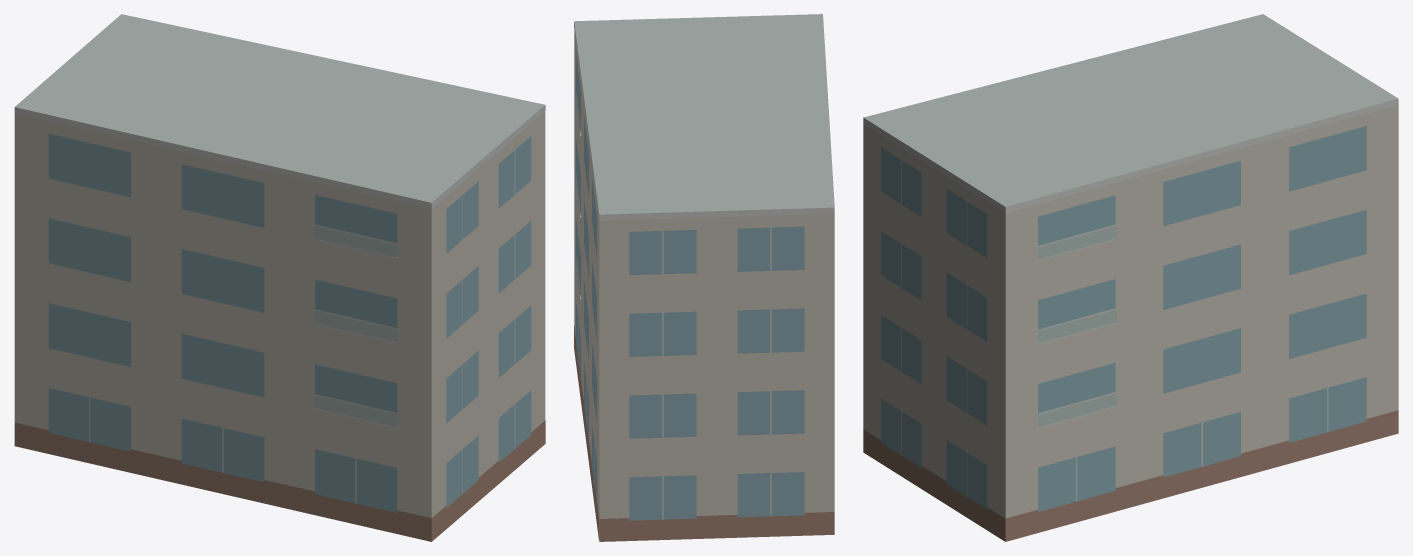
Rendered from survey-upis-32918823.glb.
The picture shows the model from 3 angles, left to right: view 1: azimuth 30°, elevation 25°; view 2: azimuth 150°, elevation 25°; view 3: azimuth 270°, elevation 25°; orthographic projection. The views are drawn at different scales.
Parts seen in each view (by area): view 1: survey-upis-32918823.tmp; view 2: survey-upis-32918823.tmp; view 3: survey-upis-32918823.tmp.
Boxes of the visible parts, box(x1,y1,x2,y2) form: survey-upis-32918823.tmp: box(14, 14, 545, 541); survey-upis-32918823.tmp: box(574, 14, 834, 541); survey-upis-32918823.tmp: box(863, 14, 1398, 541).
Size of the model in its own units: 16.2 by 13.1 by 18.99.
